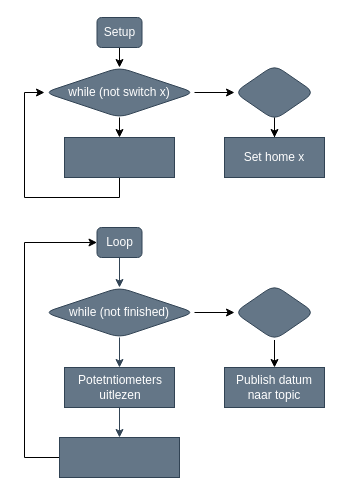
The diagram is 342 pixels wide and 495 high, and some of its shapes have lost their labels. The centre of each missing label's shape, as x and y in pixels:
"anders" goes at point 274,312.
"else" goes at point 274,92.
"Move stepper motor" goes at point 119,157.
"Stappenmotoren naar nieuwe posities" goes at point 119,457.
